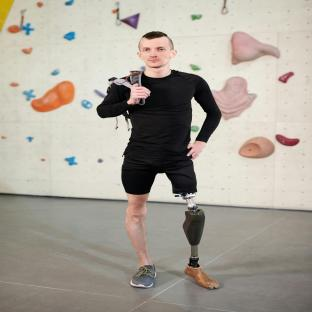Human: (97, 31, 221, 288)
